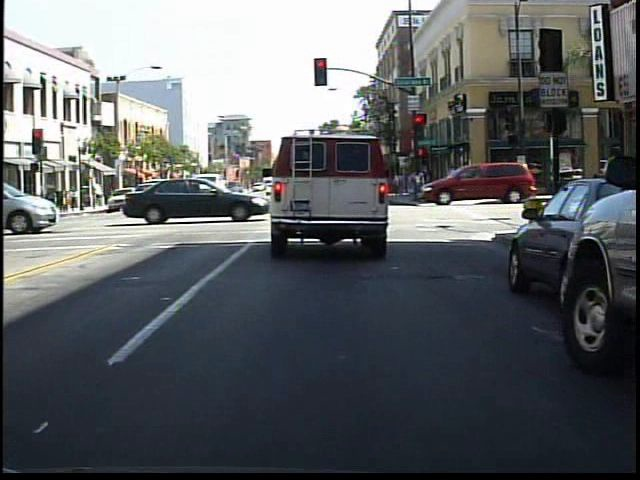person: (487, 161, 507, 200)
